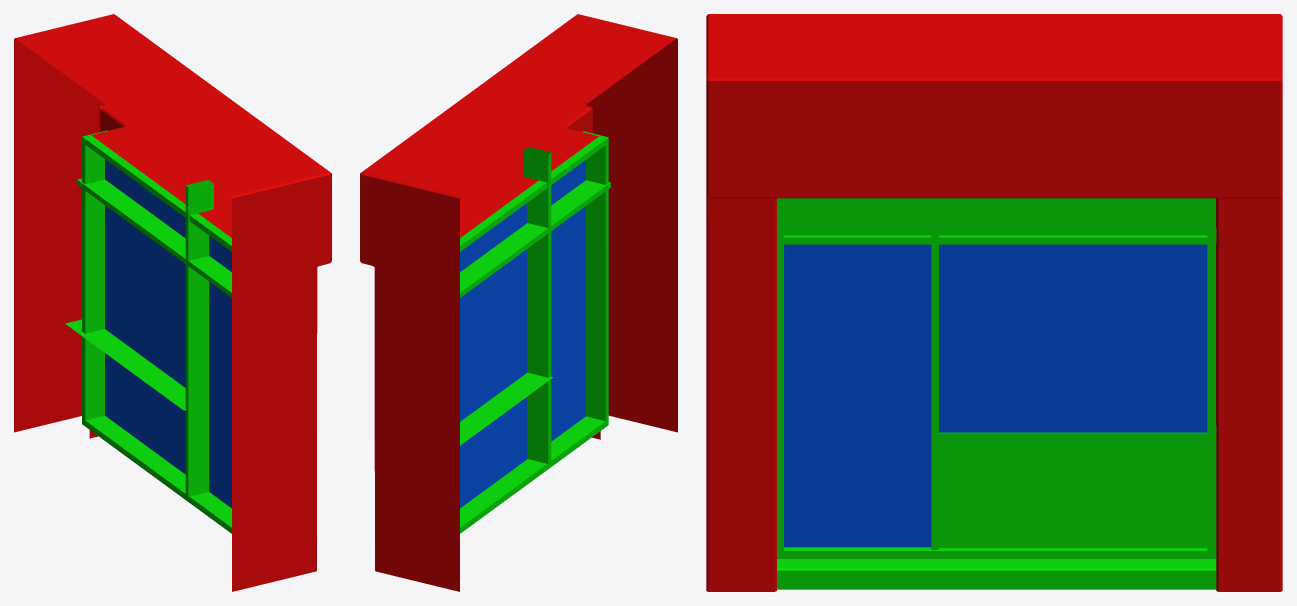
File: shop_A.fbx
3 renders of one model, left to right at view 1: azimuth 30°, elevation 25°; view 2: azimuth 150°, elevation 25°; view 3: azimuth 270°, elevation 25°, orthographic. The views are drawn at different scales.
Parts seen in each view (by area): view 1: polySurface200; view 2: polySurface200; view 3: polySurface200.
Boxes of the visible parts, left/top/right/bottom form: polySurface200: left=14, top=14, right=331, bottom=591; polySurface200: left=360, top=14, right=677, bottom=591; polySurface200: left=706, top=14, right=1282, bottom=591.
Bounding box in the file's own units: 80.04 × 300 × 300.
